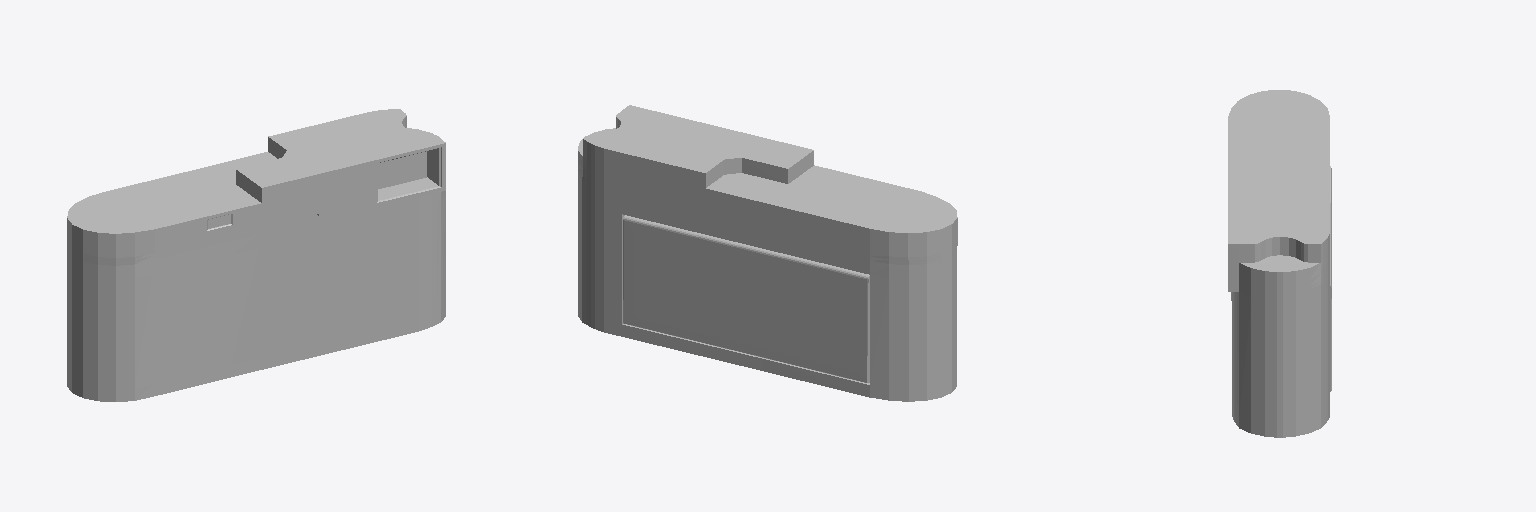
The model's file is Camera_Body_Revert backup 1.obj.
3 views of the same model, side by side, from view 1: azimuth 30°, elevation 25°; view 2: azimuth 150°, elevation 25°; view 3: azimuth 270°, elevation 25° (orthographic).
Visible parts, largest first — view 1: Camera_Body_revert; view 2: Camera_Body_revert; view 3: Camera_Body_revert.
Part boxes in pixels (bbox=[...]): Camera_Body_revert: bbox=[67, 109, 445, 401]; Camera_Body_revert: bbox=[578, 105, 957, 401]; Camera_Body_revert: bbox=[1228, 90, 1331, 437].
Size of the model in its own units: 12.73 by 6.08 by 3.12.